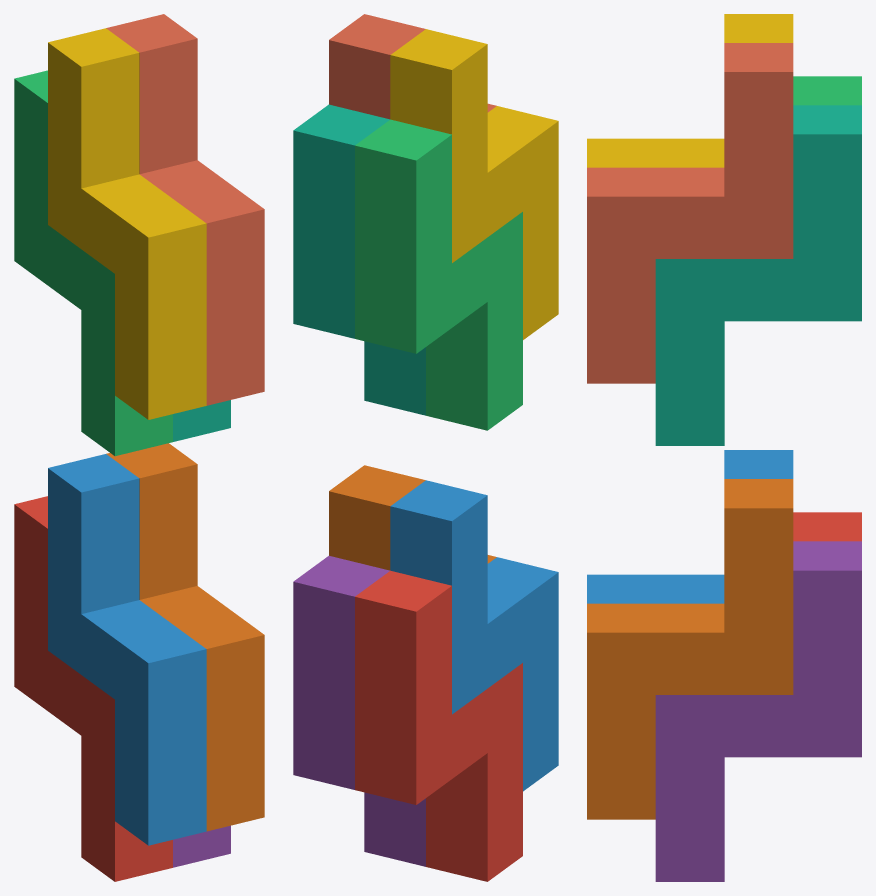
The model's file is tiling.obj.
3 renders of one model, left to right at view 1: azimuth 30°, elevation 25°; view 2: azimuth 150°, elevation 25°; view 3: azimuth 270°, elevation 25°, orthographic. The views are drawn at different scales.
Visible parts, largest first — view 1: copy_1_domain_4, copy_1_domain_2, copy_1_domain_8, copy_1_domain_6, copy_1_domain_1, copy_1_domain_3, copy_1_domain_5, copy_1_domain_7; view 2: copy_1_domain_1, copy_1_domain_3, copy_1_domain_2, copy_1_domain_4, copy_1_domain_5, copy_1_domain_7, copy_1_domain_8, copy_1_domain_6; view 3: copy_1_domain_6, copy_1_domain_8, copy_1_domain_5, copy_1_domain_7, copy_1_domain_2, copy_1_domain_4, copy_1_domain_1, copy_1_domain_3.
Boxes of the visible parts, <box> form: copy_1_domain_4: <box>48,28,206,419</box>; copy_1_domain_2: <box>48,454,206,845</box>; copy_1_domain_8: <box>106,14,264,405</box>; copy_1_domain_6: <box>106,443,264,831</box>; copy_1_domain_1: <box>14,496,172,881</box>; copy_1_domain_3: <box>14,70,172,456</box>; copy_1_domain_5: <box>173,825,230,867</box>; copy_1_domain_7: <box>173,400,230,441</box>; copy_1_domain_1: <box>355,570,522,881</box>; copy_1_domain_3: <box>355,119,522,430</box>; copy_1_domain_2: <box>390,480,558,791</box>; copy_1_domain_4: <box>390,29,558,339</box>; copy_1_domain_5: <box>293,556,425,866</box>; copy_1_domain_7: <box>293,104,425,415</box>; copy_1_domain_8: <box>329,14,496,119</box>; copy_1_domain_6: <box>329,465,496,570</box>; copy_1_domain_6: <box>587,479,793,819</box>; copy_1_domain_8: <box>587,43,793,383</box>; copy_1_domain_5: <box>655,541,861,881</box>; copy_1_domain_7: <box>655,105,861,445</box>; copy_1_domain_2: <box>587,450,793,603</box>; copy_1_domain_4: <box>587,14,793,167</box>; copy_1_domain_1: <box>793,512,861,541</box>; copy_1_domain_3: <box>793,76,861,105</box>.
Bounding box in the file's own units: 2 × 13 × 4.
